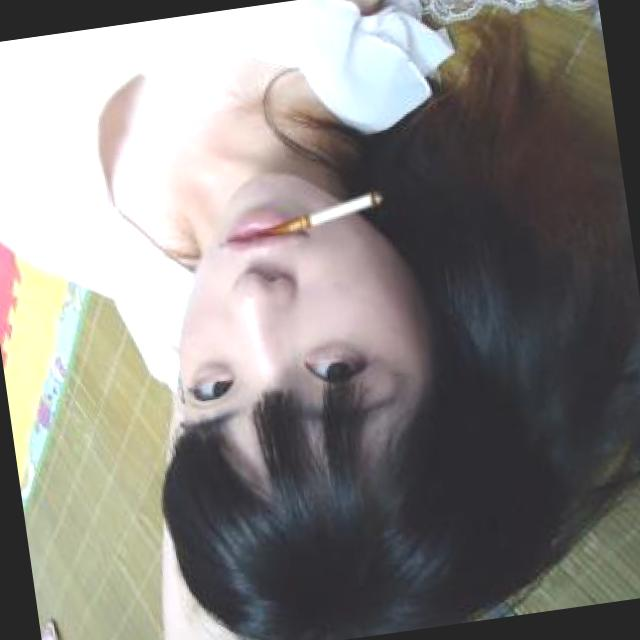cigarette: (309, 187, 389, 227)
